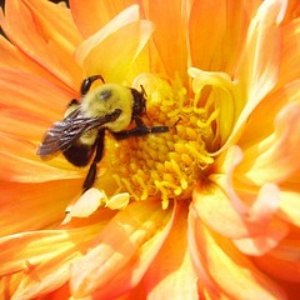bee: (39, 75, 169, 192)
